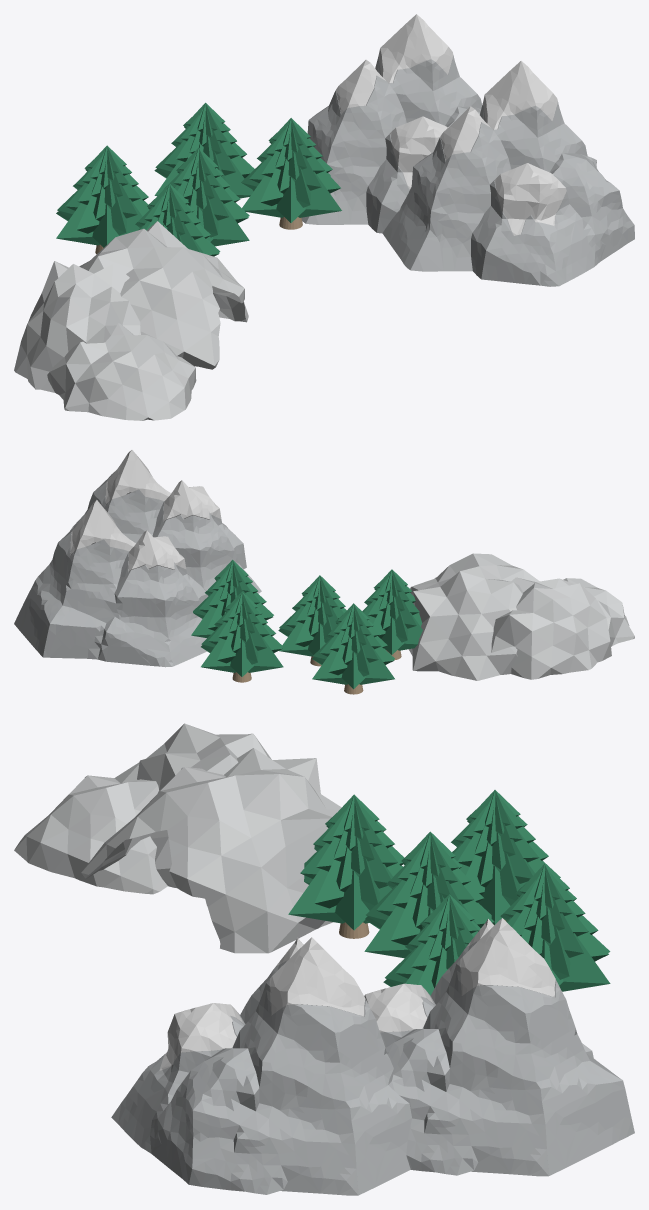
The picture shows the model from 3 angles, top to bottom: view 1: azimuth 30°, elevation 25°; view 2: azimuth 150°, elevation 25°; view 3: azimuth 270°, elevation 25°; orthographic projection. The views are drawn at different scales.
Visible parts, largest first — view 1: Mesh_Mesh_head_geo.001_lambert2SG.001; view 2: Mesh_Mesh_head_geo.001_lambert2SG.001; view 3: Mesh_Mesh_head_geo.001_lambert2SG.001.
Part boxes in pixels (bbox=[...]): Mesh_Mesh_head_geo.001_lambert2SG.001: bbox=[14, 14, 634, 420]; Mesh_Mesh_head_geo.001_lambert2SG.001: bbox=[14, 450, 634, 694]; Mesh_Mesh_head_geo.001_lambert2SG.001: bbox=[14, 723, 634, 1195].
Bounding box in the file's own units: 243 × 59.79 × 163.
